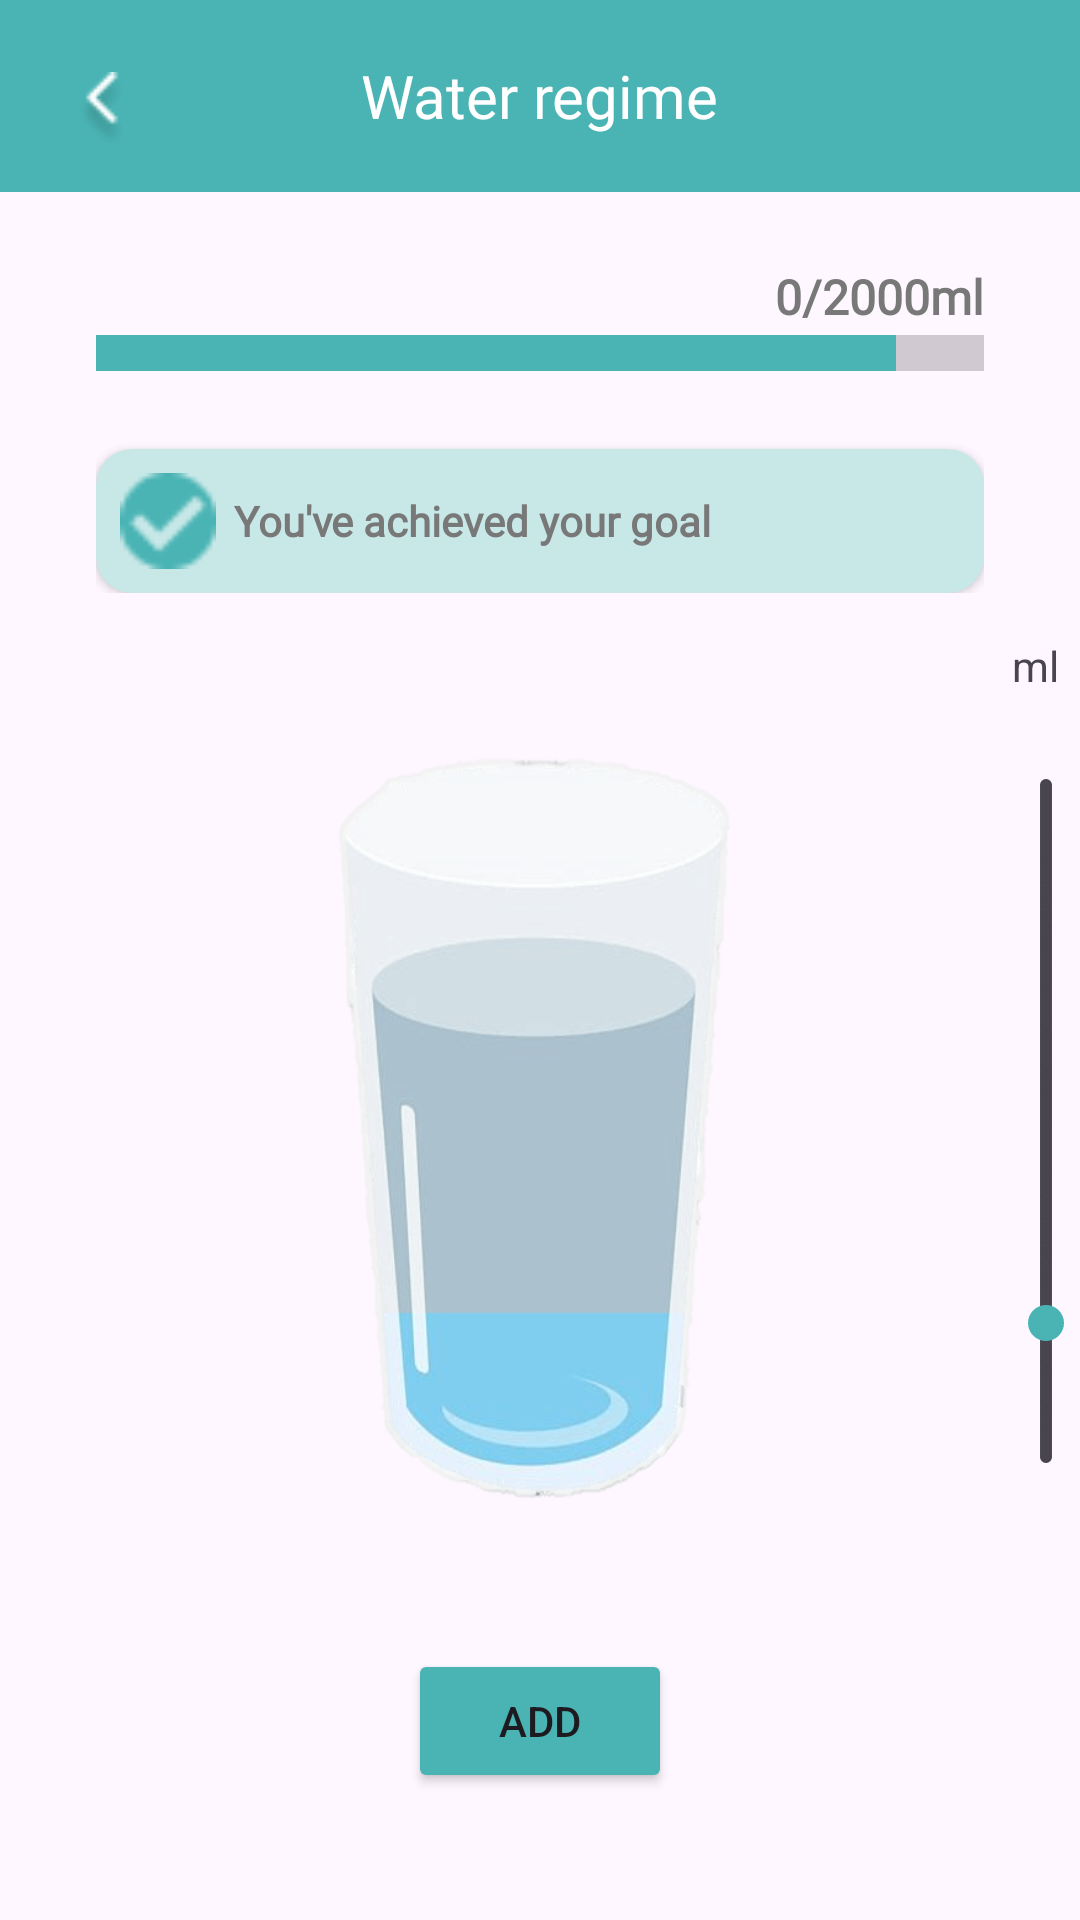

Where icons sit on this 1080w x 1920h app screen, as region(x1, y1, x2, y2):
checkmark: region(120, 473, 216, 569)
mobilehealth back: region(86, 72, 118, 124)
